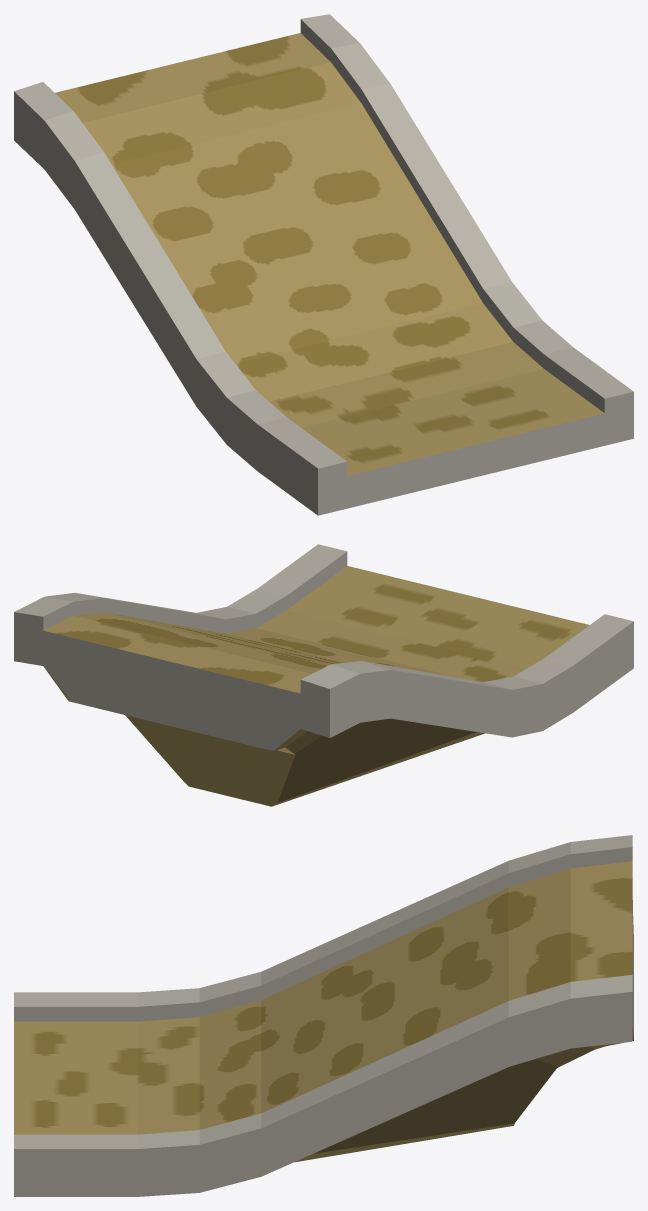
Rendered from saglam_kopru.fbx.
3 renders of one model, top to bottom at view 1: azimuth 30°, elevation 25°; view 2: azimuth 150°, elevation 25°; view 3: azimuth 270°, elevation 25°, orthographic.
Parts seen in each view (by area): view 1: Plane.003; view 2: Plane.003; view 3: Plane.003.
Boxes of the visible parts, <box> form: Plane.003: <box>14,14,633,515</box>; Plane.003: <box>14,544,633,806</box>; Plane.003: <box>14,835,633,1196</box>.
Size of the model in its own units: 6.23 by 3.85 by 10.42.
Materials: 1 (1 with a texture image).
